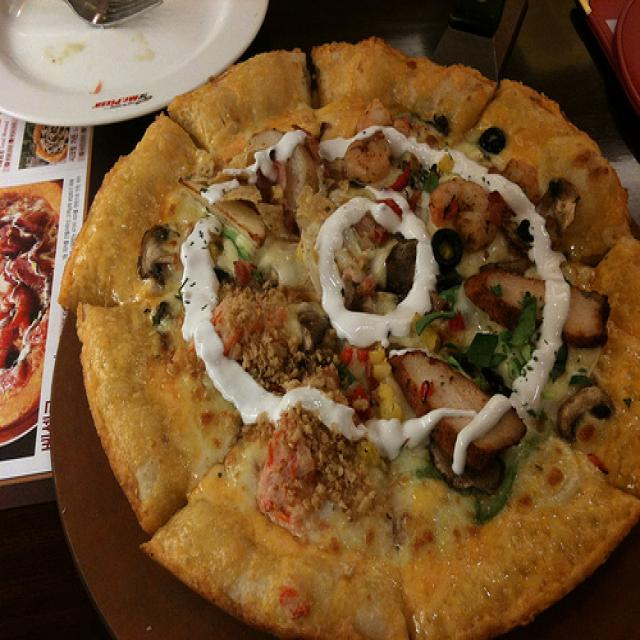Wet Waste: (56, 34, 640, 640)
